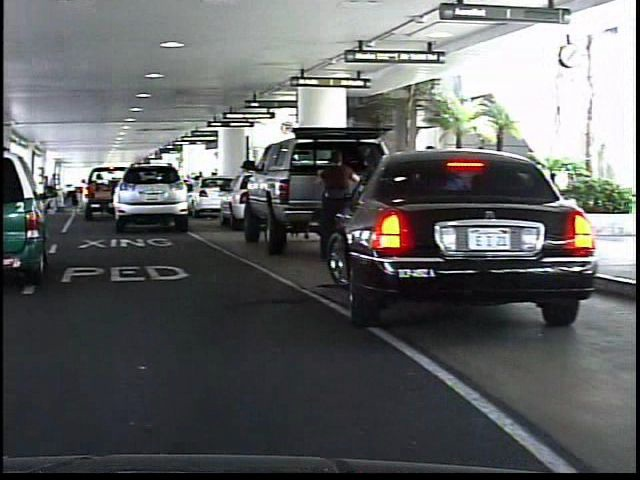person: (309, 149, 361, 257)
